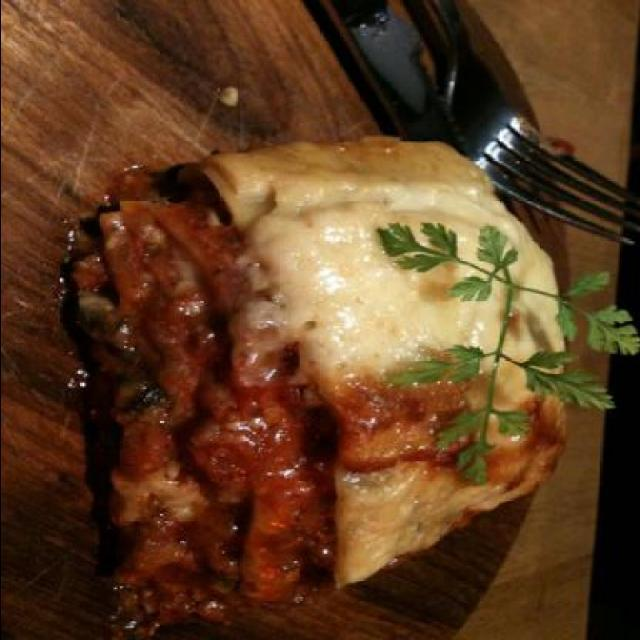Lasagna: (59, 112, 576, 624)
